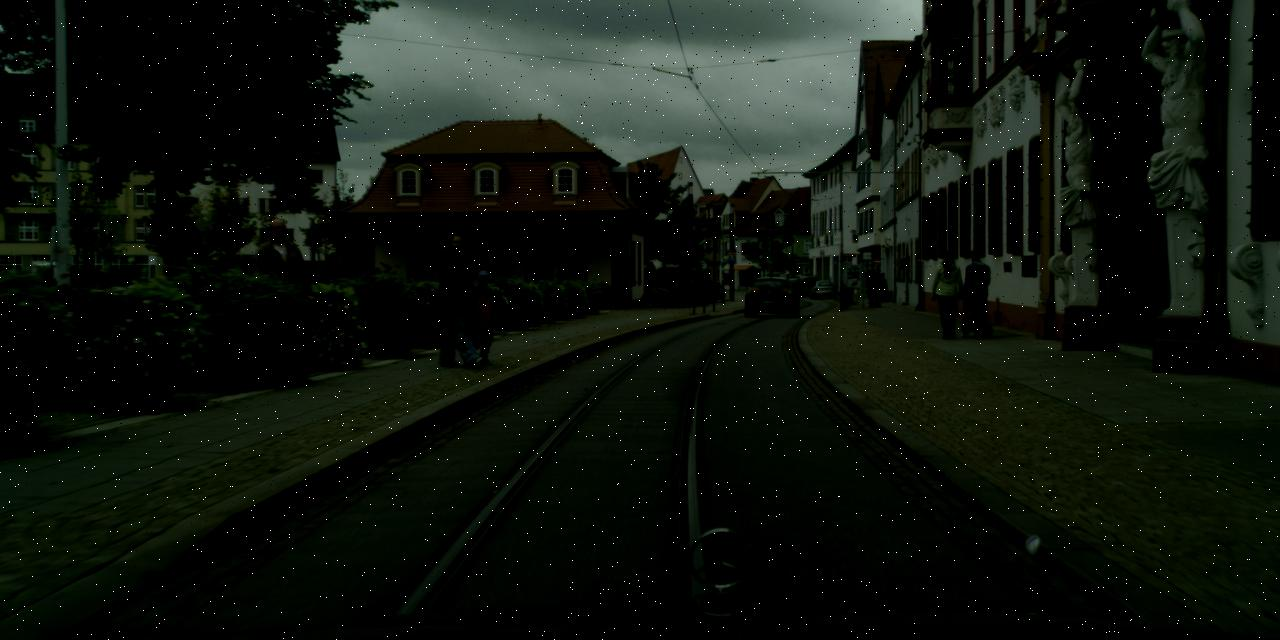ped: (431, 232, 486, 364), (255, 218, 307, 344), (461, 270, 499, 362), (960, 250, 996, 338), (931, 250, 966, 338), (320, 252, 350, 326), (343, 250, 370, 316), (863, 268, 878, 307), (870, 271, 884, 306), (877, 272, 889, 302), (750, 271, 760, 296), (847, 289, 859, 307), (714, 280, 722, 301)
